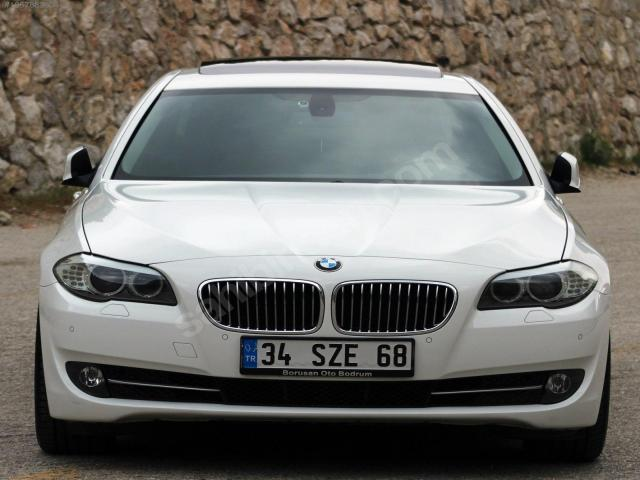plaka: (241, 338, 414, 378)
